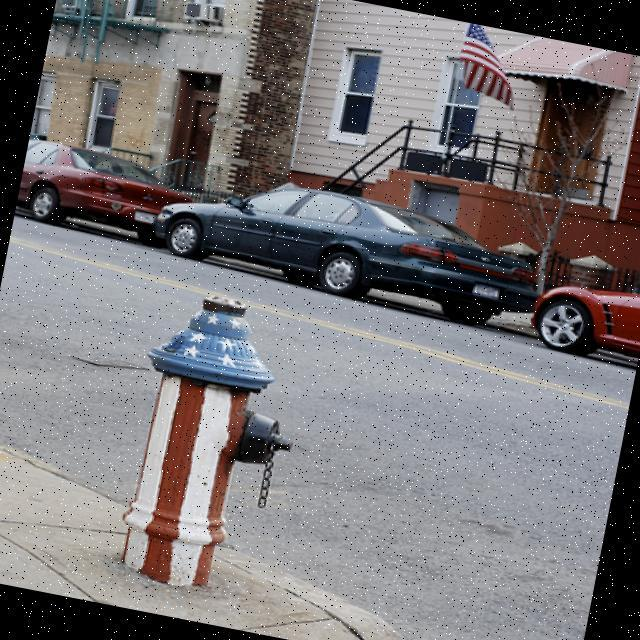fire_hydrant: (105, 284, 318, 602)
